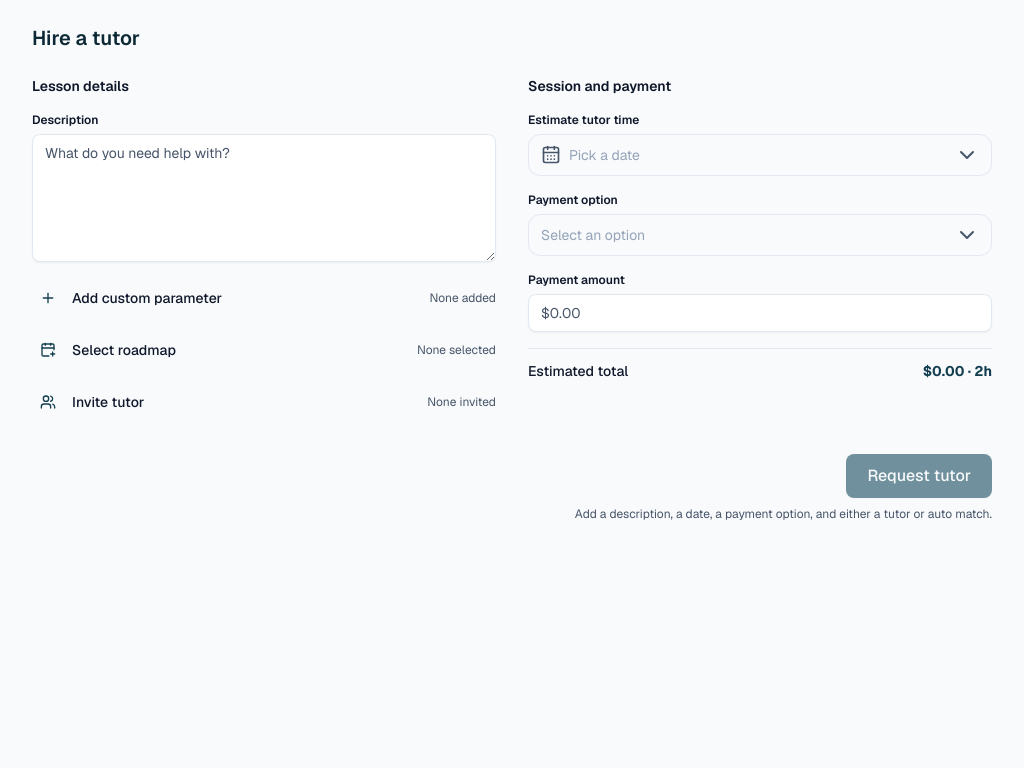
Test case: HireTutorForm › opens the payment picker and records the selection
Step 1. Click the button with aria-label "Choose a payment option" → (593,235), box [528, 214, 992, 256]
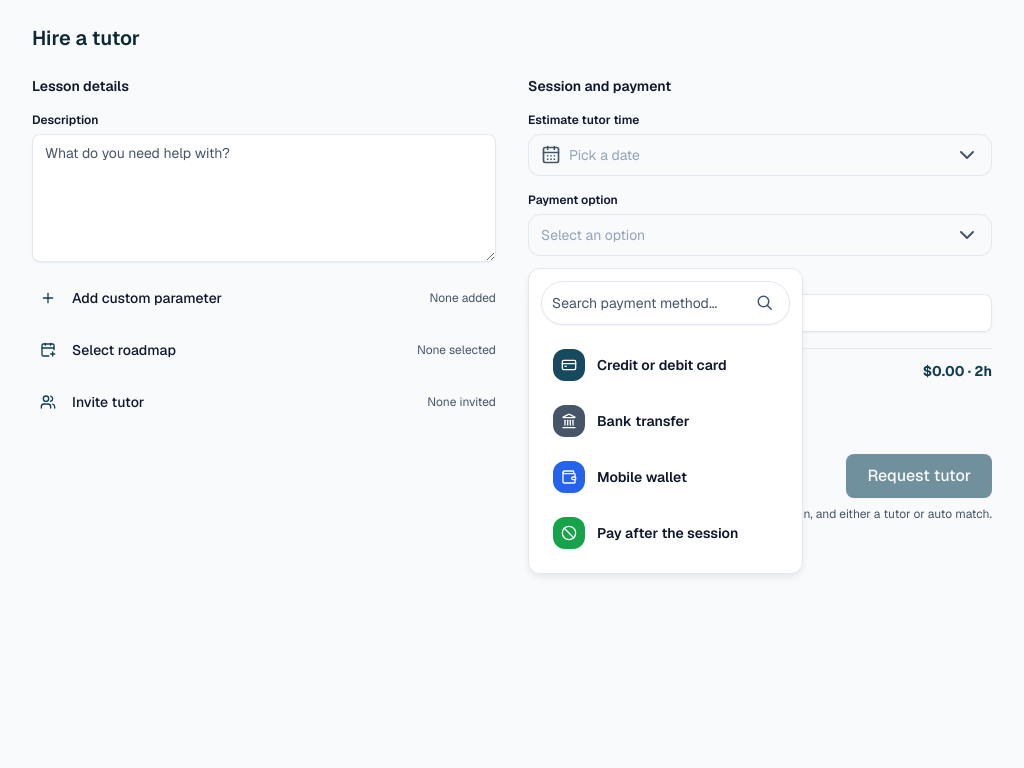
Step 2. Click the option "Bank transfer" → (621,421), box [553, 405, 689, 437]
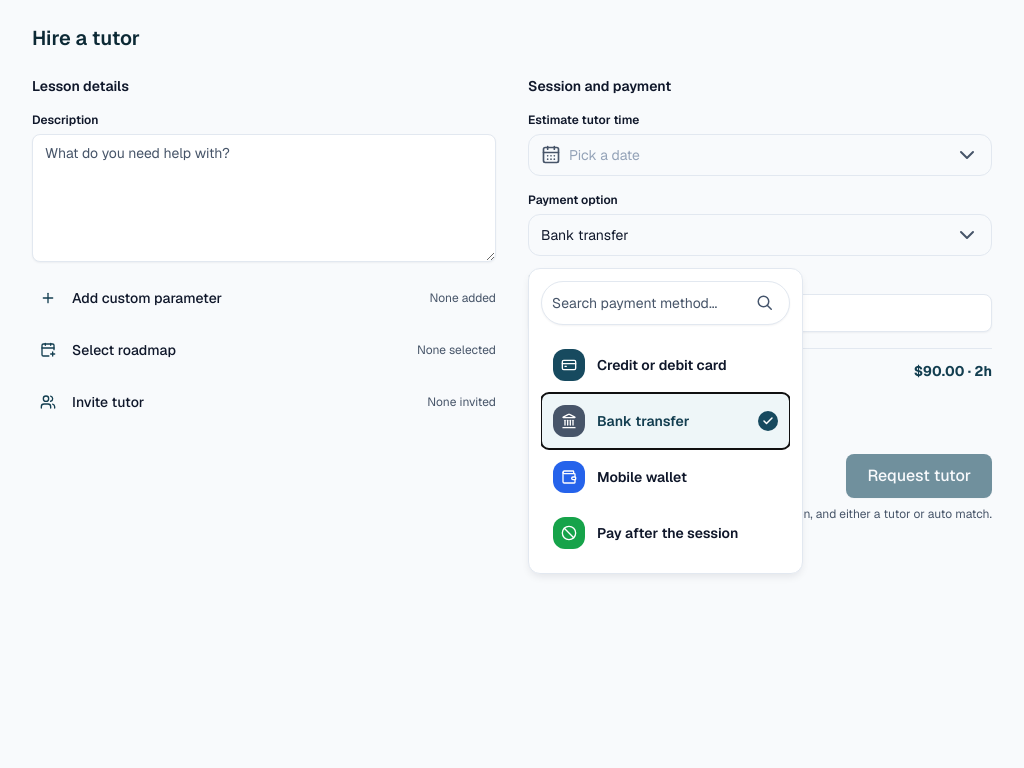
Expected: the list named "Payment option" is shown, [541, 337, 790, 561]
Expected: the button with aria-label "Choose a payment option" reads "Bank transfer", [528, 214, 992, 256]
